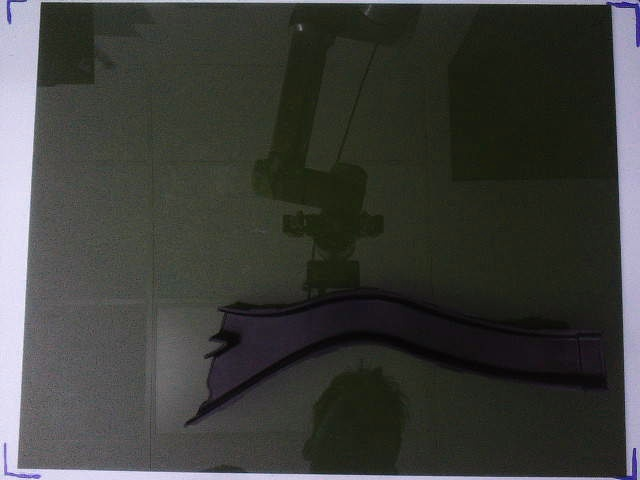887_B-Under: (186, 289, 608, 426)
